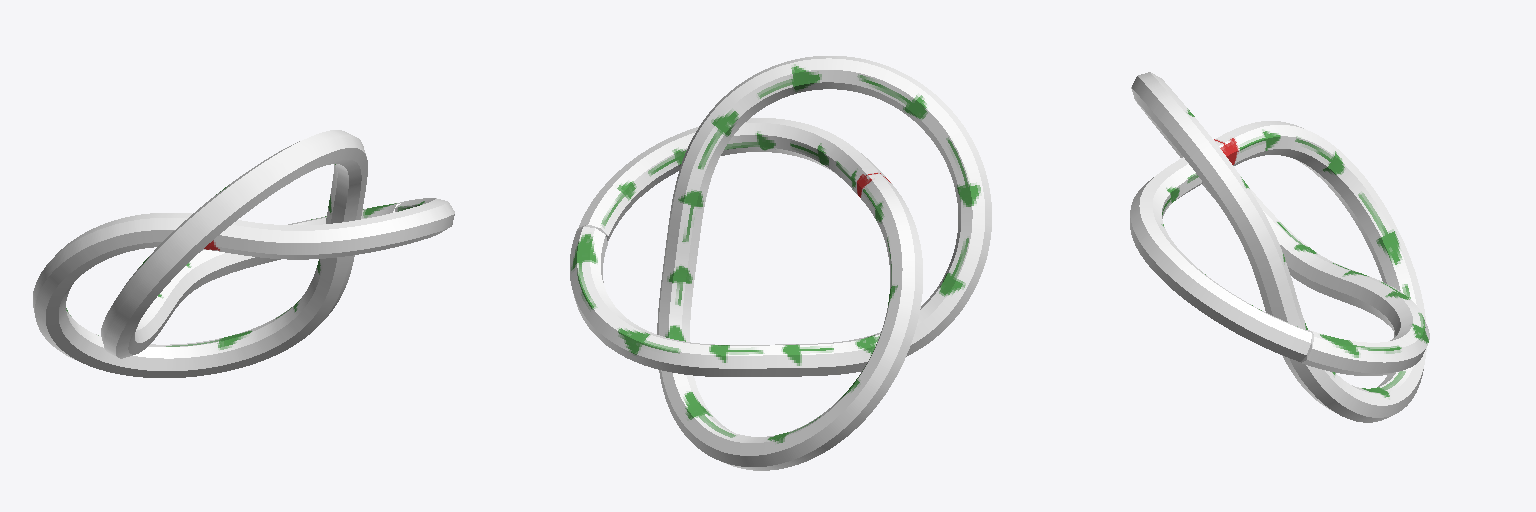
3 renders of one model, left to right at view 1: azimuth 30°, elevation 25°; view 2: azimuth 150°, elevation 25°; view 3: azimuth 270°, elevation 25°, orthographic.
Visible parts, largest first — view 1: Torus_Knot_2_x_3; view 2: Torus_Knot_2_x_3; view 3: Torus_Knot_2_x_3.
Boxes of the visible parts, box(x1,y1,x2,y2) form: Torus_Knot_2_x_3: box(33, 130, 454, 377); Torus_Knot_2_x_3: box(570, 56, 991, 470); Torus_Knot_2_x_3: box(1130, 72, 1429, 422).
Bounding box in the file's own units: 1.7 × 1.43 × 1.23.
Materials: 1 (1 with a texture image).